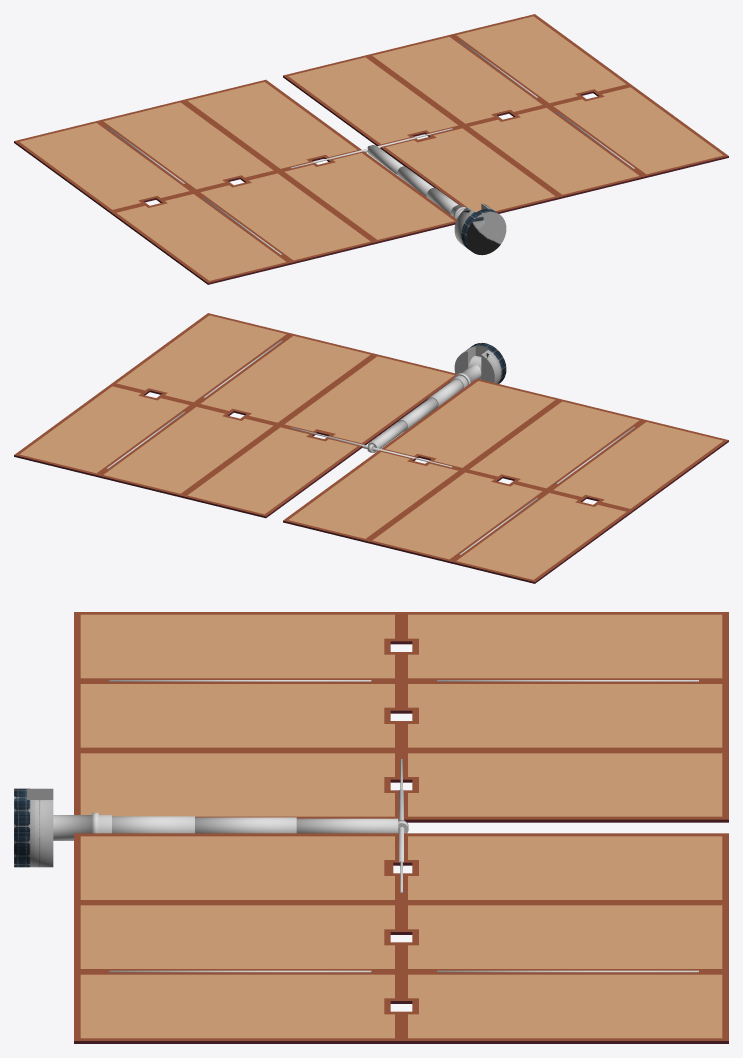
3 views of the same model, one above another, from view 1: azimuth 30°, elevation 25°; view 2: azimuth 150°, elevation 25°; view 3: azimuth 270°, elevation 25° (orthographic). The views are drawn at different scales.
Parts seen in each view (by area): view 1: p1.5, p3.5, p4.1, p2.3, p1.1, p2.5, p1.3, p4.3, p3.1, p4.5, p3.3, p2.1 (+2 smaller); view 2: p4.1, p3.5, p1.5, p3.1, p4.3, p4.5, p3.3, p2.3, p1.1, p1.3, p2.5, p2.1 (+3 smaller); view 3: p3.1, p2.5, p4.5, p1.3, p3.3, p2.1, p4.1, p2.3, p4.3, p1.5, p3.5, p1.1 (+7 smaller).
Boxes of the visible parts, box(x1,y1,x2,y2) form: p1.5: box(111, 191, 291, 284); p3.5: box(14, 120, 194, 213); p4.1: box(283, 55, 463, 146); p2.3: box(464, 105, 644, 198); p1.1: box(279, 151, 456, 243); p2.5: box(548, 85, 728, 178); p1.3: box(195, 171, 375, 264); p4.3: box(367, 34, 547, 125); p3.1: box(182, 79, 361, 170); p4.5: box(451, 14, 631, 105); p3.3: box(98, 100, 278, 191); p2.1: box(381, 126, 560, 213); p4.1: box(182, 425, 362, 518); p3.5: box(451, 490, 631, 583); p1.5: box(548, 419, 728, 512); p3.1: box(283, 450, 463, 542); p4.3: box(98, 404, 278, 497); p4.5: box(14, 384, 194, 477); p3.3: box(367, 470, 547, 563); p2.3: box(195, 333, 375, 424); p1.1: box(381, 378, 560, 469); p1.3: box(464, 399, 644, 490); p2.5: box(111, 313, 291, 404); p2.1: box(279, 354, 457, 444); p3.1: box(401, 750, 728, 822); p2.5: box(74, 971, 401, 1043); p4.5: box(401, 971, 728, 1043); p1.3: box(74, 681, 401, 750); p3.3: box(401, 681, 728, 750); p2.1: box(74, 833, 401, 902); p4.1: box(401, 833, 728, 902); p2.3: box(74, 902, 401, 971); p4.3: box(401, 902, 728, 971); p1.5: box(74, 612, 401, 681); p3.5: box(401, 612, 728, 681); p1.1: box(74, 750, 401, 820).
Size of the model in its own units: 1.55 by 0.12 by 1.09.
